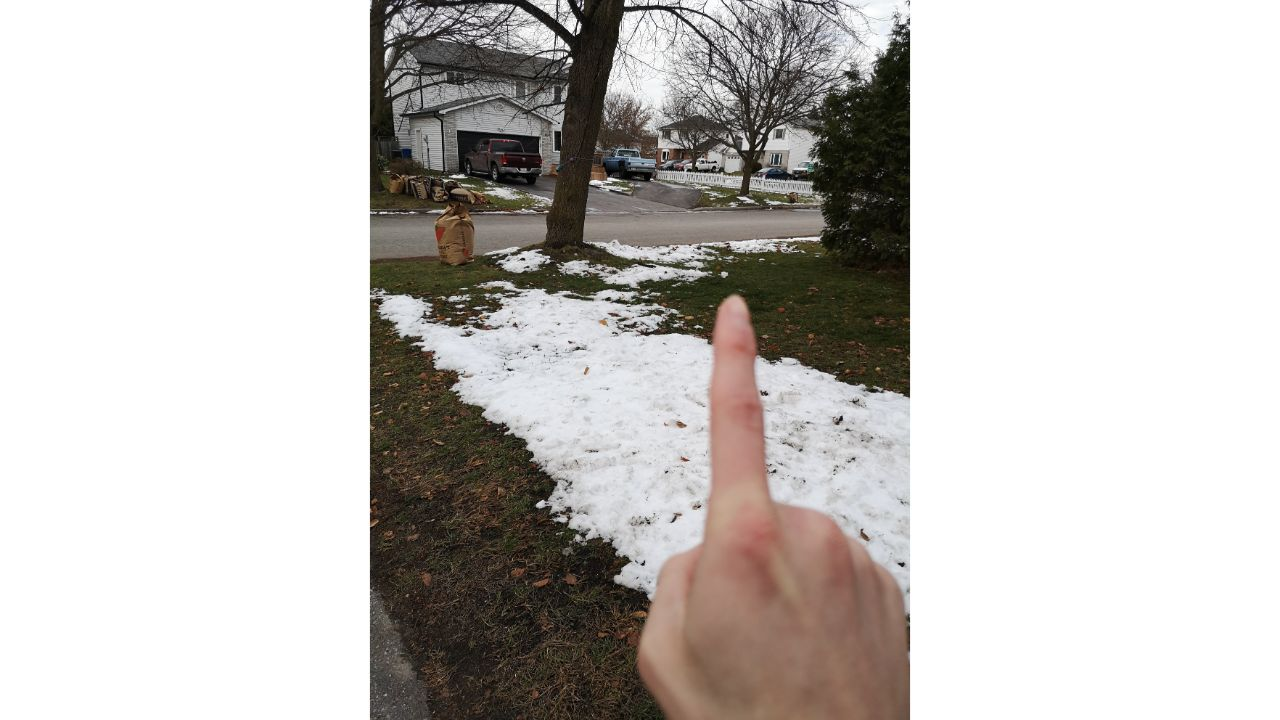finger: (640, 269, 904, 720)
